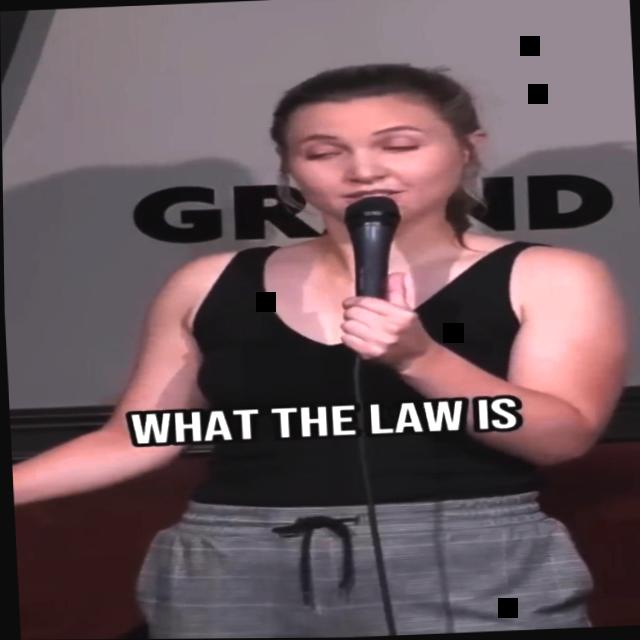NO-Mask: (267, 96, 486, 229)
